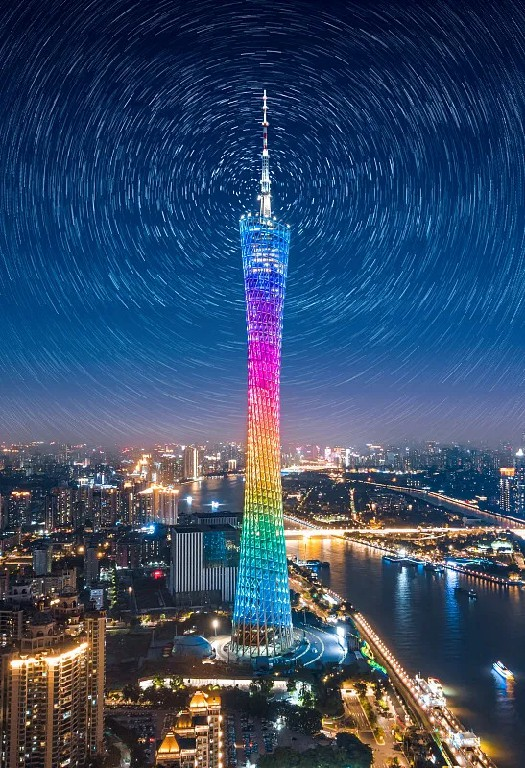Canton: (220, 83, 301, 660)
